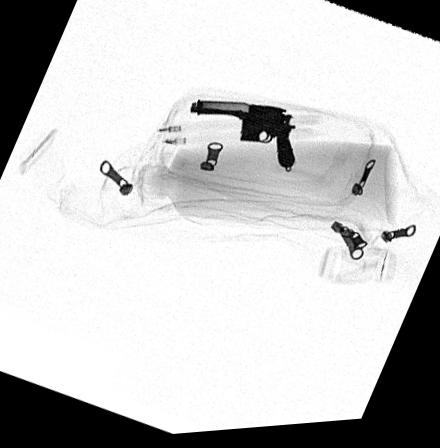Bullet: (196, 102, 285, 119)
Gun: (188, 105, 297, 171)
